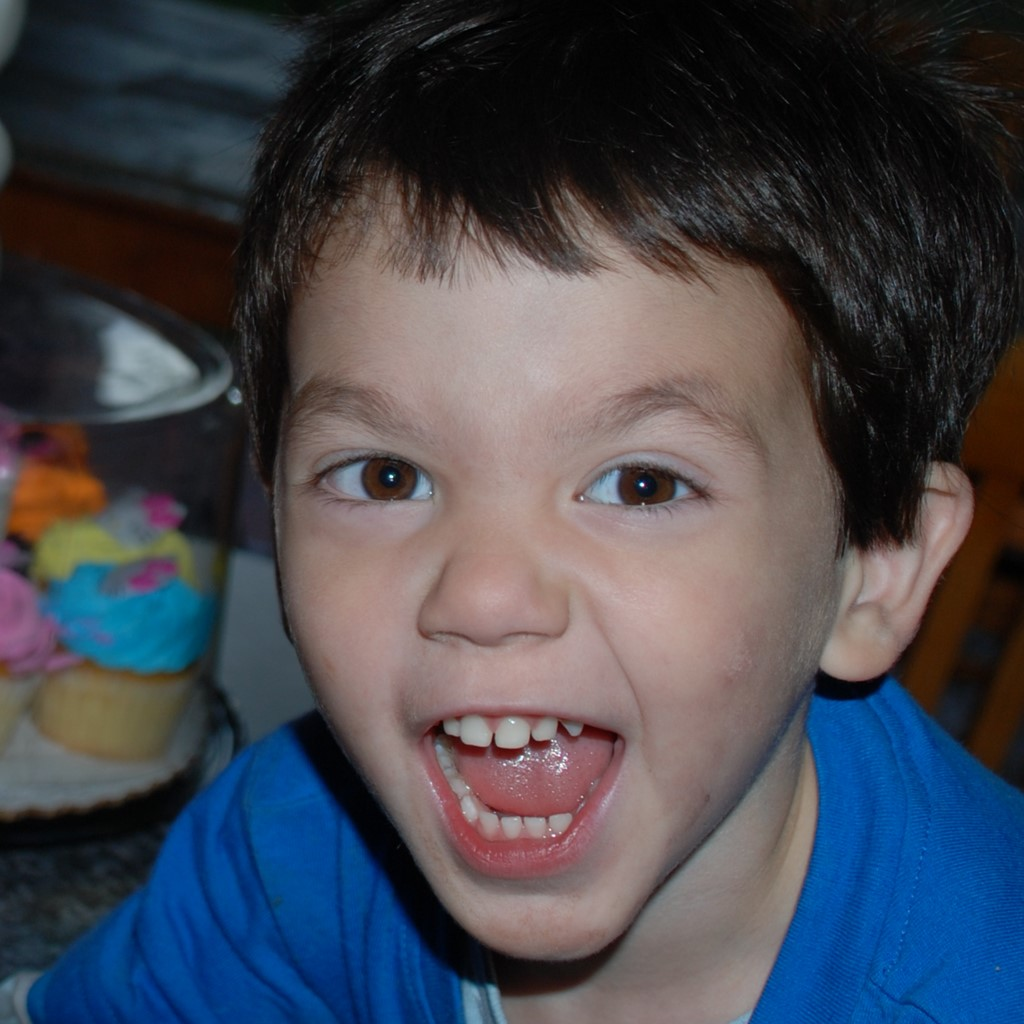sin_mascara: (256, 52, 978, 969)
